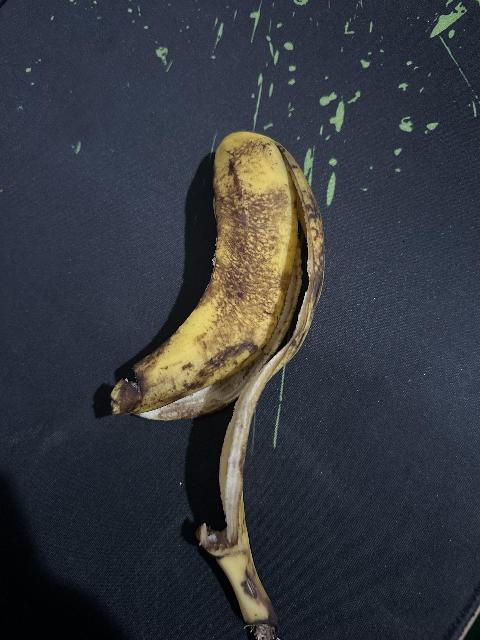Organik: (105, 125, 329, 640)
